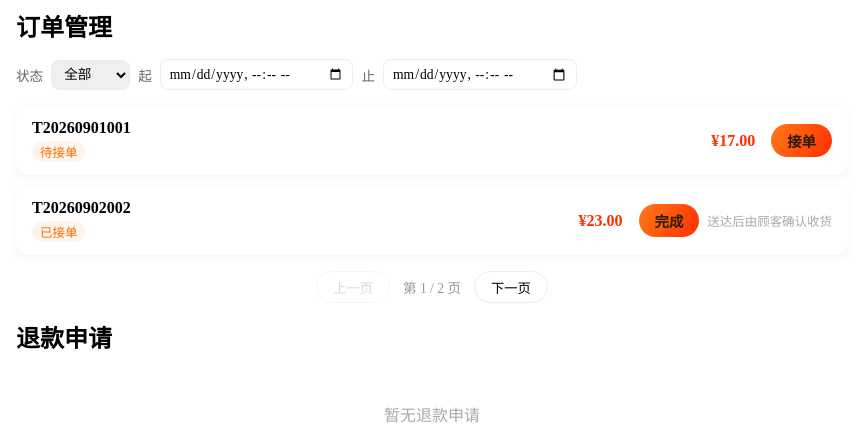
Scenario: 商家订单管理 › 多页时按页重新拉取
Click the button with test id "order-mgmt-next". click: (511, 287)
box: [474,271,548,303]
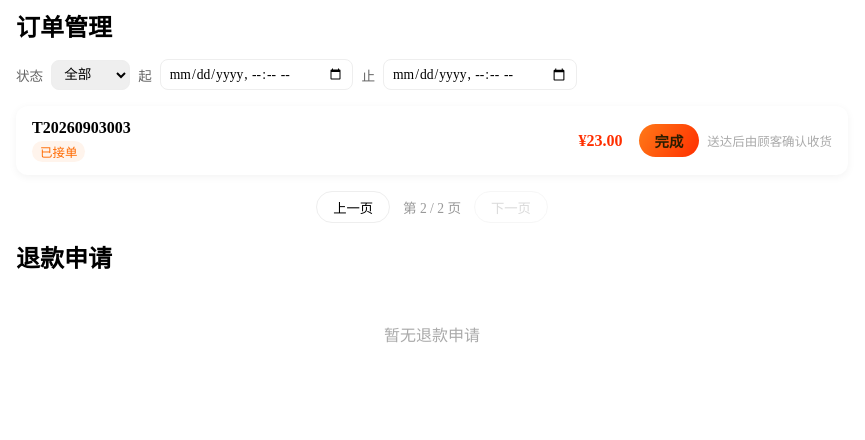
Check: the list item with test id "order-mgmt-item-62" is shown, box [16,106,848,175]
